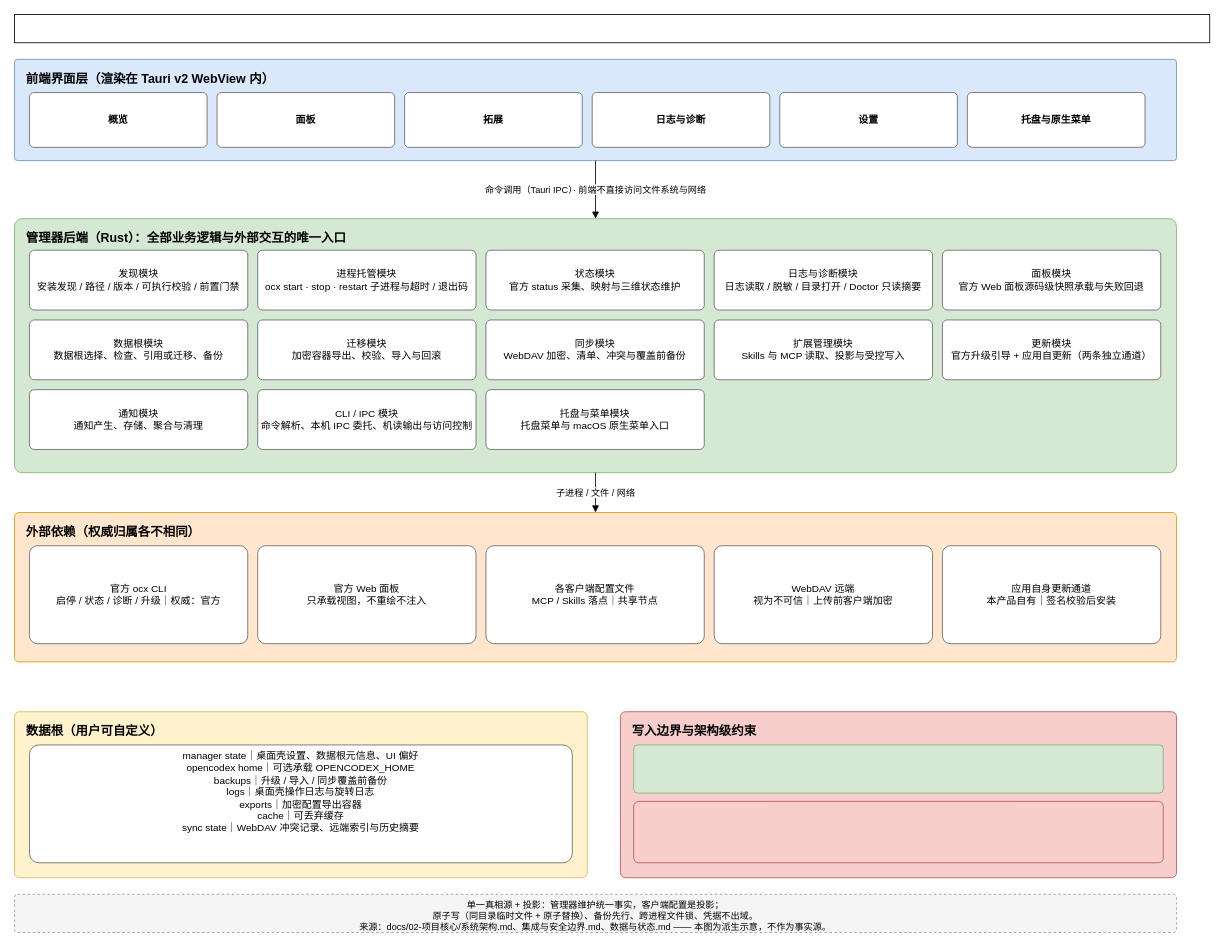
Image size: 1224x948. Some labels were removed from this diagram. Each missing label, with the centre of its shape:
"OpenCodeX-Desktop 整体架构（分层 / 模块 / 外部依赖 / 写入边界）" belongs at point 612,28.
"允许写入 Skills 目录同步；各客户端 MCP 服务器节点（唯一例外）" belongs at point 898,768.
"禁止写入 provider、路由、模型映射与 OpenCodex 核心运行配置 （一律走官方 CLI，本产品不提供写入通道）" belongs at point 898,832.
